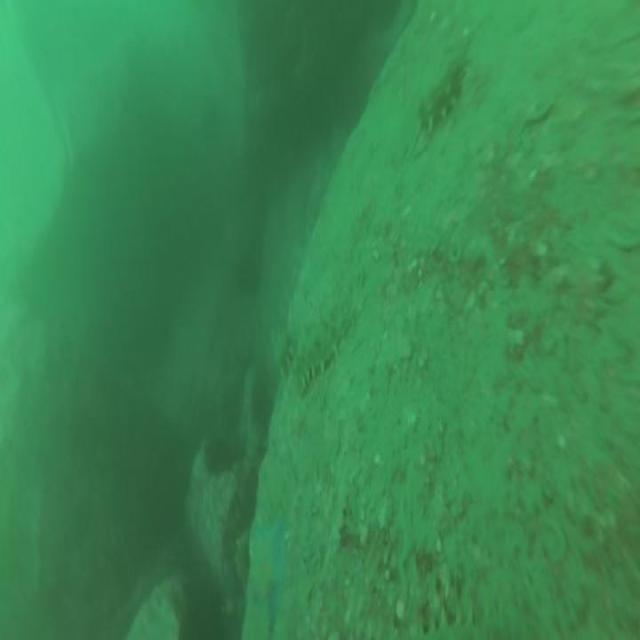echinus: (203, 428, 238, 484), (250, 368, 276, 438), (232, 248, 266, 296)
holothurian: (294, 280, 359, 398), (414, 44, 468, 141), (271, 308, 301, 387)
starfish: (242, 513, 295, 640)
